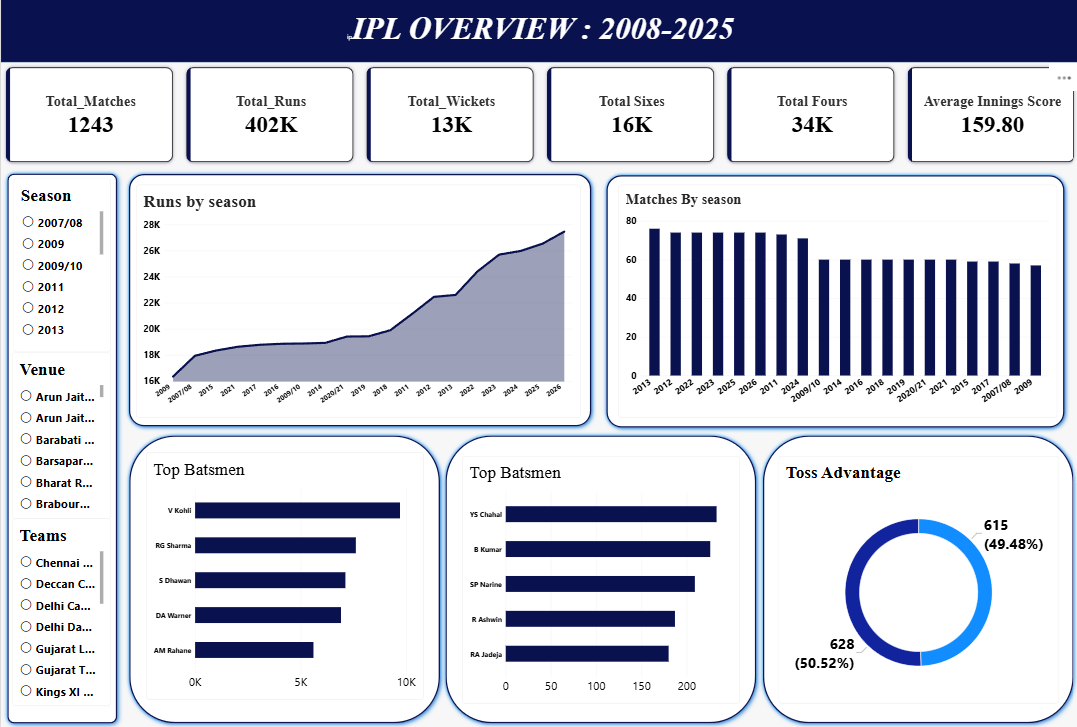

This screenshot's page, from the dashboard's own definition file:
{"tool":"powerbi","page":{"name":"Page 1","canvas":[2500,1700],"ordinal":0},"visuals":[{"type":"shape","box":[283.3,1006.7,746.7,693.3],"z":0},{"type":"shape","box":[0,396.9,283.9,1303.7],"z":500},{"type":"cardVisual","fields":{"Data":["public ipl_data.Total_Matches","public ipl_data.Total_Rusn","public ipl_data.Total_Wickets","public ipl_data.Total Sixes","public ipl_data.Total Fours","public ipl_data.Average Innings Score"]},"box":[0,153.3,2500,243.3],"z":1000},{"type":"listSlicer","title":"Season","fields":{"Values":["public ipl_data.season"]},"box":[29,423,226,402.7],"z":2000},{"type":"shape","box":[1753.3,1006.7,746.7,693.3],"z":3000},{"type":"shape","box":[1016.7,1006.7,746.7,693.3],"z":4000},{"type":"shape","box":[283.3,400,1096.7,610],"z":5000},{"type":"shape","box":[0,0,2500,153.3],"z":6000},{"type":"listSlicer","title":"Venue","fields":{"Values":["public ipl_data.venue"]},"box":[26.1,825.7,228.9,385.3],"z":7000},{"type":"textbox","box":[0,33.3,2500,120],"z":8000},{"type":"listSlicer","title":"Teams","fields":{"Values":["public ipl_data.batting_team"]},"box":[26.1,1211,228.9,434.6],"z":9000},{"type":"lineChart","title":"Runs by season","fields":{"Category":["public ipl_data.season"],"Y":["public ipl_data.Total_Runs"]},"box":[313.3,436.7,1030,540],"z":10000},{"type":"shape","box":[1390,403.3,1086.7,610],"z":11000},{"type":"clusteredColumnChart","title":"Matches By season","fields":{"Category":["public ipl_data.season"],"Y":["public ipl_data.Total_Matches"]},"box":[1430,436.7,1016.7,540],"z":12000},{"type":"barChart","title":"Top Batsmen","fields":{"Category":["public ipl_data.batter"],"Y":["public ipl_data.Total_Runs"]},"box":[336.7,1056.7,643.3,573.3],"z":13000},{"type":"barChart","title":"Top Batsmen","fields":{"Category":["public ipl_data.bowler"],"Y":["public ipl_data.Total_Wickets"]},"box":[1070,1066.7,643.3,573.3],"z":14000},{"type":"donutChart","title":"Toss Advantage","fields":{"Y":["public ipl_data.Toss Winner Loses","public ipl_data.Toss Winner Wins"]},"box":[1803.3,1066.7,650,573.3],"z":15000}]}

Visuals, with their boxes in screenshot pixels (x1, y1, x2, y2), scaled from the page's 2500x1700 canvas onto the 1077x727 screenshot:
shape: region(122, 431, 444, 726)
shape: region(0, 170, 122, 726)
cardVisual - public ipl_data.Total_Matches x public ipl_data.Total_Rusn: region(0, 66, 1076, 170)
"Season" listSlicer: region(12, 181, 110, 353)
shape: region(755, 431, 1076, 726)
shape: region(438, 431, 760, 726)
shape: region(122, 171, 595, 432)
shape: region(0, 0, 1076, 66)
"Venue" listSlicer: region(11, 353, 110, 518)
textbox: region(0, 14, 1076, 66)
"Teams" listSlicer: region(11, 518, 110, 704)
"Runs by season" lineChart: region(135, 187, 579, 418)
shape: region(599, 172, 1067, 433)
"Matches By season" clusteredColumnChart: region(616, 187, 1054, 418)
"Top Batsmen" barChart: region(145, 452, 422, 697)
"Top Batsmen" barChart: region(461, 456, 738, 701)
"Toss Advantage" donutChart: region(777, 456, 1057, 701)
